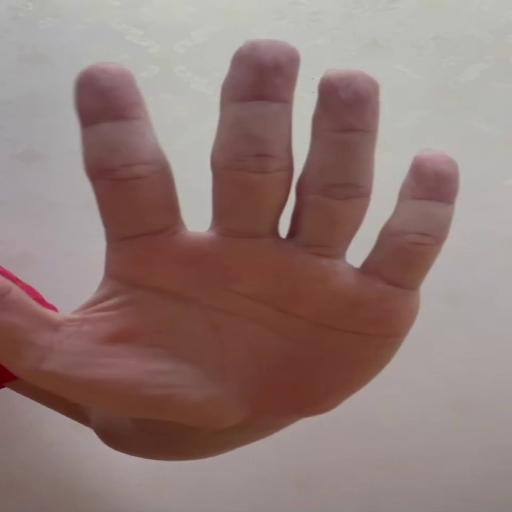open_palm: (2, 37, 462, 422)
